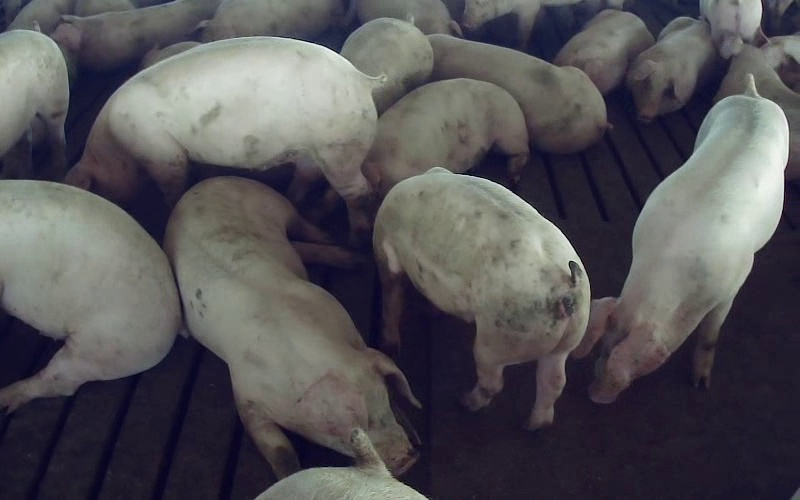pig: (164, 177, 417, 477), (574, 76, 787, 401), (66, 37, 383, 225), (374, 167, 588, 427), (428, 34, 608, 153), (362, 79, 528, 196), (626, 17, 717, 122), (340, 18, 432, 113), (554, 9, 654, 94), (202, 0, 343, 41)
